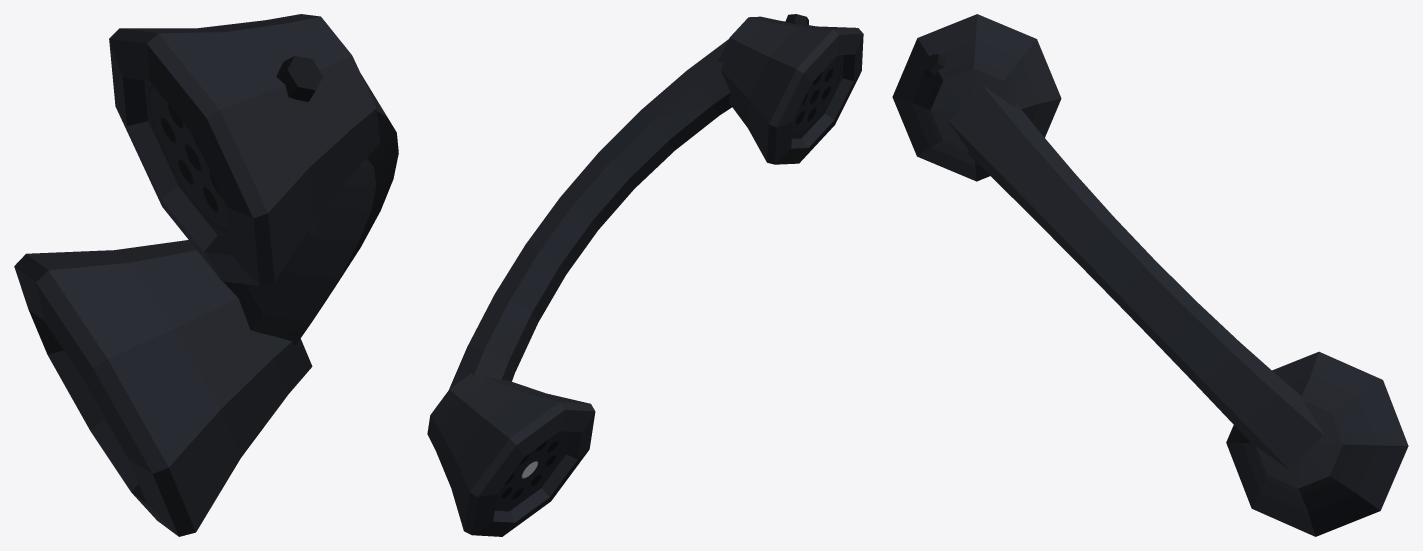
Rendered from telephone-handset-balanced-jet.glb.
The picture shows the model from 3 angles, left to right: view 1: azimuth 30°, elevation 25°; view 2: azimuth 150°, elevation 25°; view 3: azimuth 270°, elevation 25°; orthographic projection. The views are drawn at different scales.
Parts seen in each view (by area): view 1: Handset_Bakelite_Body, Handset_Acoustic_Grills, Handset_Cord_Collar; view 2: Handset_Bakelite_Body, Handset_Acoustic_Grills; view 3: Handset_Bakelite_Body.
Boxes of the visible parts, x1=… form: Handset_Bakelite_Body: x1=14, y1=14, x2=398, y2=536; Handset_Acoustic_Grills: x1=144, y1=80, x2=229, y2=236; Handset_Cord_Collar: x1=276, y1=56, x2=322, y2=101; Handset_Bakelite_Body: x1=427, y1=16, x2=863, y2=536; Handset_Acoustic_Grills: x1=495, y1=55, x2=843, y2=511; Handset_Bakelite_Body: x1=892, y1=14, x2=1408, y2=536.
Bounding box in the file's own units: 0.1092 × 0.1851 × 0.1979.
3 materials, 1 textured.
